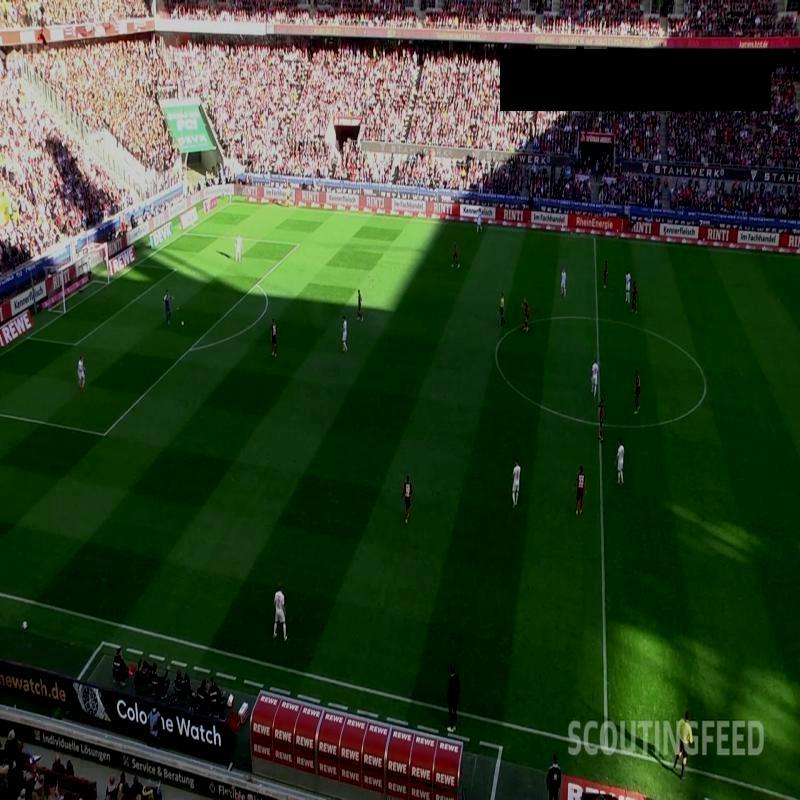1: (224, 197, 238, 211)
10: (250, 278, 264, 292)
11: (183, 342, 197, 356)
12: (97, 428, 112, 442)
13: (588, 230, 602, 244)
14: (590, 312, 604, 326)
15: (594, 417, 608, 431)
16: (597, 738, 616, 760)
2: (178, 226, 192, 240)
3: (128, 258, 142, 272)
4: (20, 330, 34, 344)
7: (169, 260, 183, 278)
8: (68, 338, 82, 351)
9: (291, 238, 305, 251)
c: (488, 342, 504, 358), (699, 375, 713, 389)
